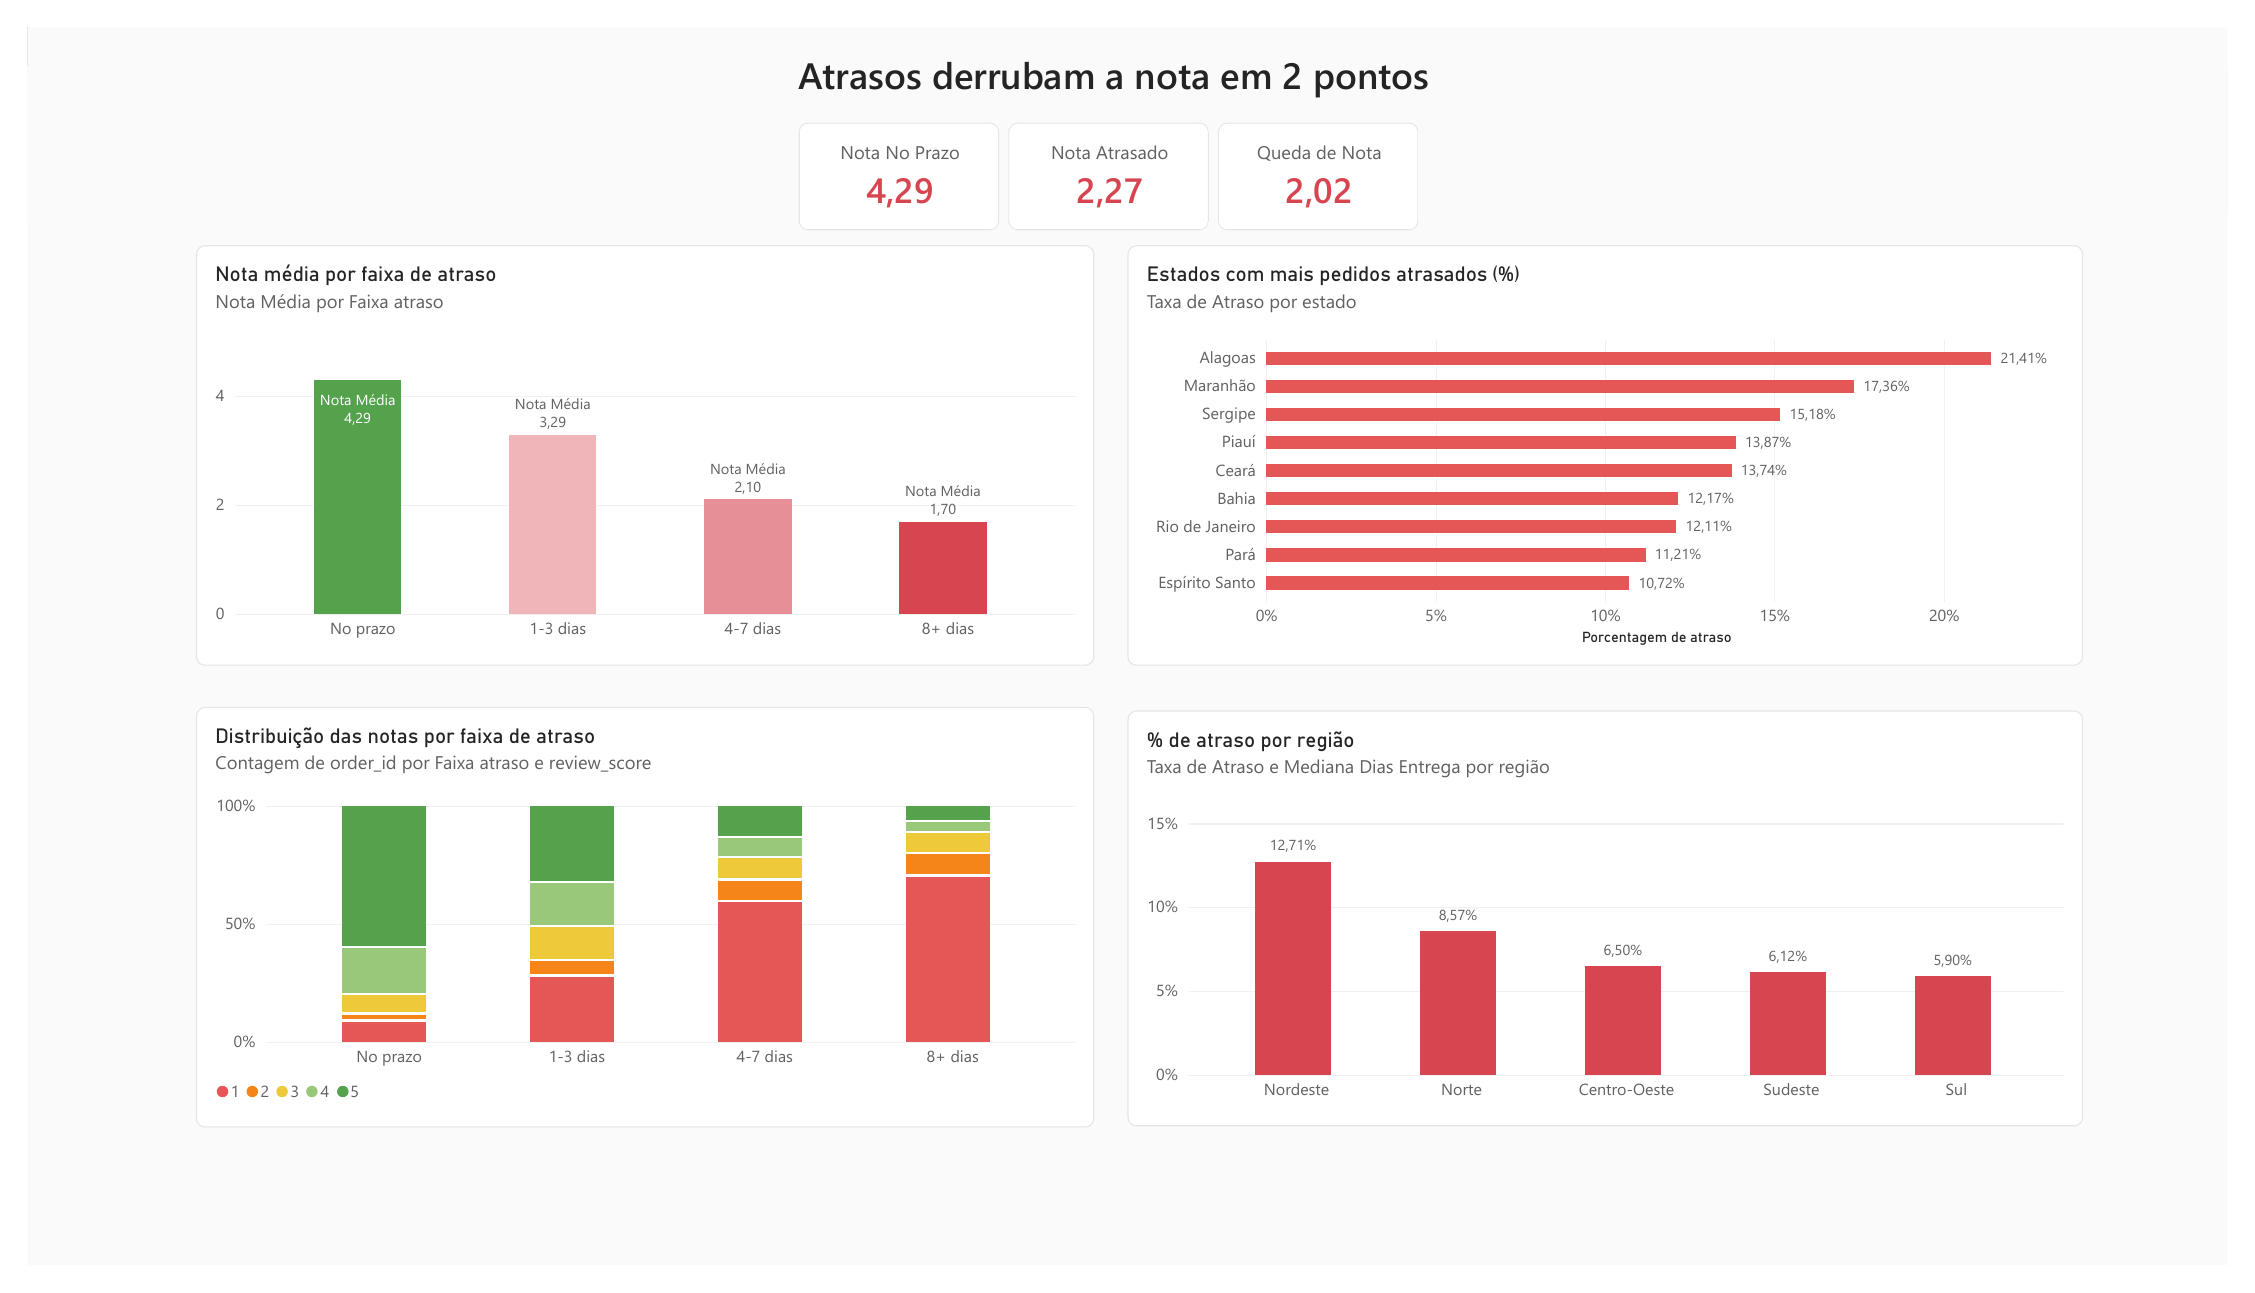

The dashboard page shown, as its layout file describes it:
{"tool":"powerbi","page":{"name":"Logística e Satisfação","canvas":[1920,1080],"ordinal":1},"visuals":[{"type":"textbox","box":[672.9,18.6,572.9,280],"z":0},{"type":"clusteredColumnChart","title":"Nota média por faixa de atraso","fields":{"Category":["fact_orders.Faixa atraso"],"Y":["fact_orders.Nota Média"]},"box":[147.1,190,784.3,367.1],"z":1000},{"type":"hundredPercentStackedColumnChart","title":"Distribuição das notas por faixa de atraso","fields":{"Category":["fact_orders.Faixa atraso"],"Series":["fact_orders.review_score"],"Y":["CountNonNull(fact_order_items.order_id)"]},"box":[147.1,592.9,784.3,367.1],"z":2000},{"type":"clusteredBarChart","title":"Estados com mais pedidos atrasados (%)","fields":{"Category":["dim_geografia.estado"],"Y":["fact_orders.Taxa de Atraso"]},"box":[960,190,834.3,367.1],"z":3000},{"type":"clusteredColumnChart","title":"% de atraso por região","fields":{"Category":["dim_geografia.regiao"],"Y":["fact_orders.Taxa de Atraso"]},"box":[960,595.7,834.3,362.9],"z":4000},{"type":"cardVisual","fields":{"Data":["fact_order_items.Nota No Prazo","fact_order_items.Nota Atrasado","fact_order_items.Queda de Nota"]},"box":[672.9,82.9,542.9,94.3],"z":5000}]}

Visuals, with their boxes in screenshot pixels (x1, y1, x2, y2), scaled from the page's 1920x1080 canvas onto the 2255x1293 screenshot:
textbox: <region>790, 22, 1463, 357</region>
"Nota média por faixa de atraso" clusteredColumnChart: <region>173, 227, 1094, 667</region>
"Distribuição das notas por faixa de atraso" hundredPercentStackedColumnChart: <region>173, 710, 1094, 1149</region>
"Estados com mais pedidos atrasados (%)" clusteredBarChart: <region>1128, 227, 2107, 667</region>
"% de atraso por região" clusteredColumnChart: <region>1128, 713, 2107, 1148</region>
cardVisual - fact_order_items.Nota No Prazo x fact_order_items.Nota Atrasado: <region>790, 99, 1428, 212</region>
